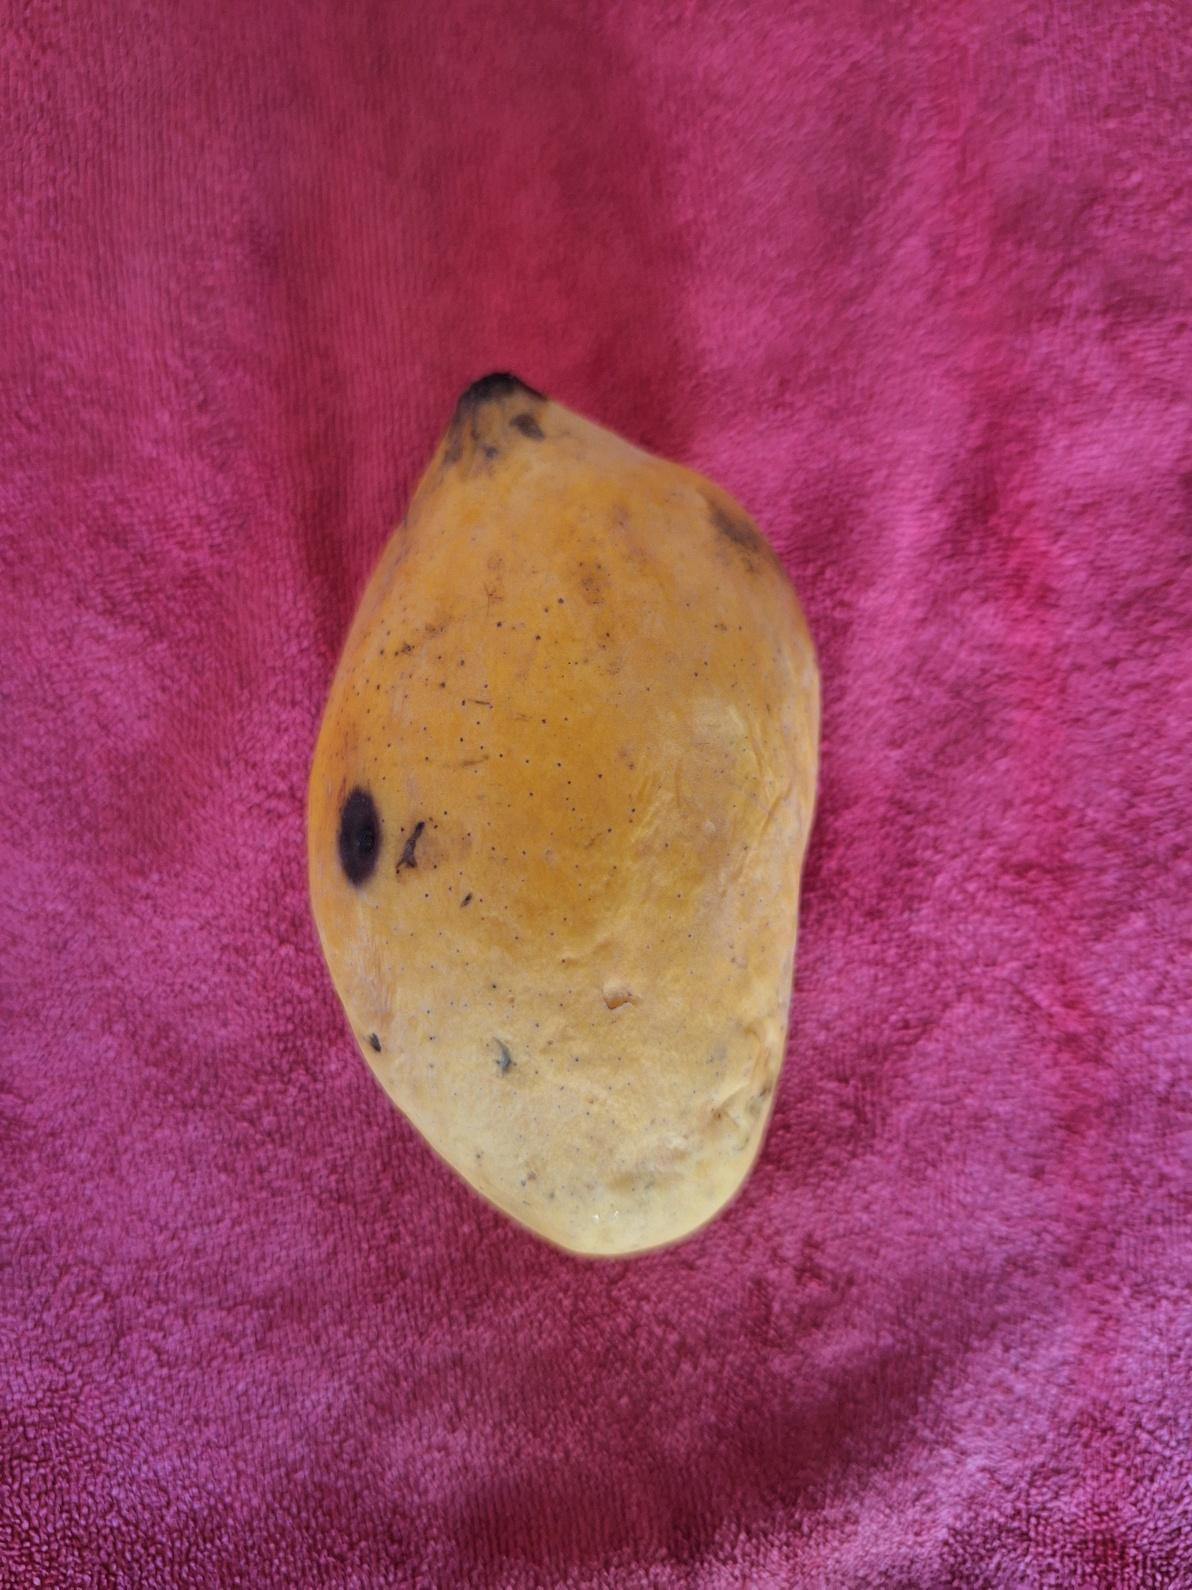mango: (303, 367, 823, 1259)
